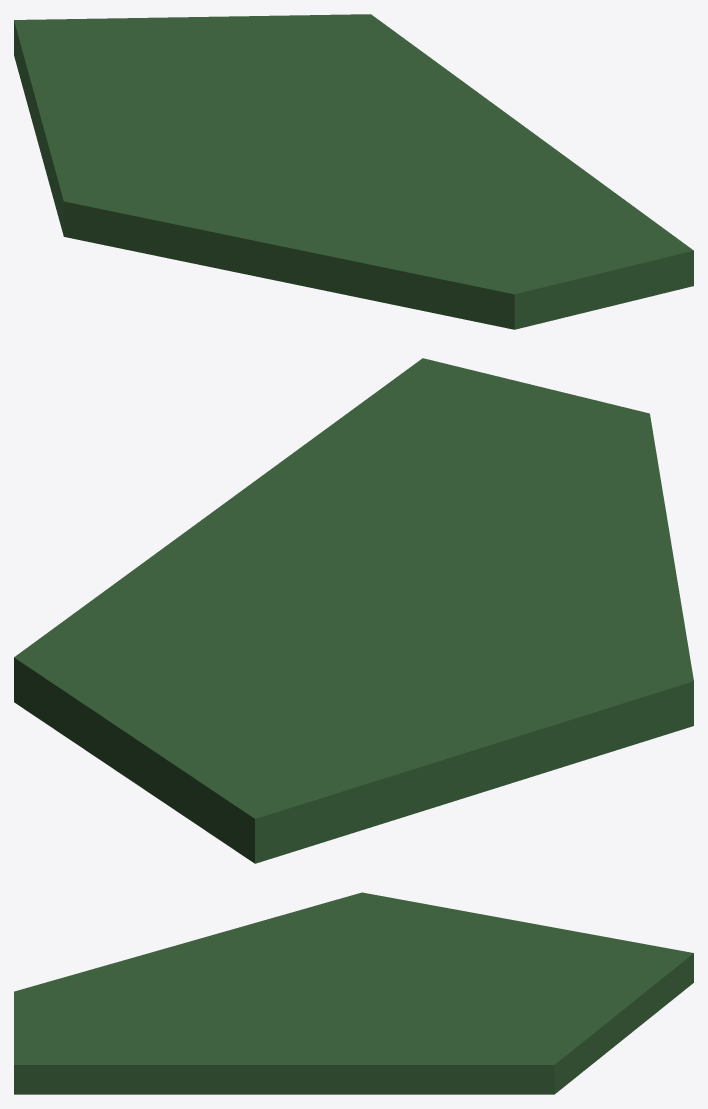
Rendered from x_proval_00_41_1_rmstrd.fbx.
3 views of the same model, one above another, from view 1: azimuth 30°, elevation 25°; view 2: azimuth 150°, elevation 25°; view 3: azimuth 270°, elevation 25° (orthographic). The views are drawn at different scales.
Parts seen in each view (by area): view 1: x_proval_00_41_1_rmstrd1; view 2: x_proval_00_41_1_rmstrd1; view 3: x_proval_00_41_1_rmstrd1.
Boxes of the visible parts, x1=… form: x_proval_00_41_1_rmstrd1: x1=14, y1=14, x2=693, y2=329; x_proval_00_41_1_rmstrd1: x1=14, y1=358, x2=693, y2=863; x_proval_00_41_1_rmstrd1: x1=14, y1=892, x2=693, y2=1094.
Bounding box in the file's own units: 2.49 × 0.2 × 4.16.
